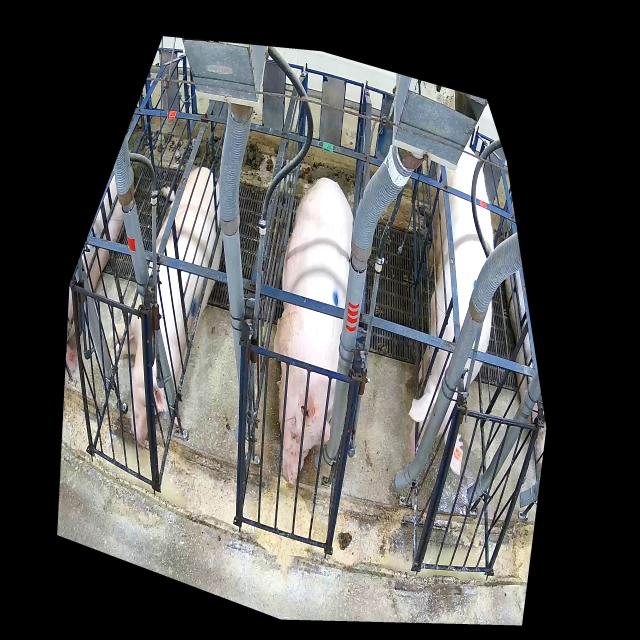pig: (107, 167, 223, 446), (407, 145, 494, 476), (272, 178, 353, 485)
